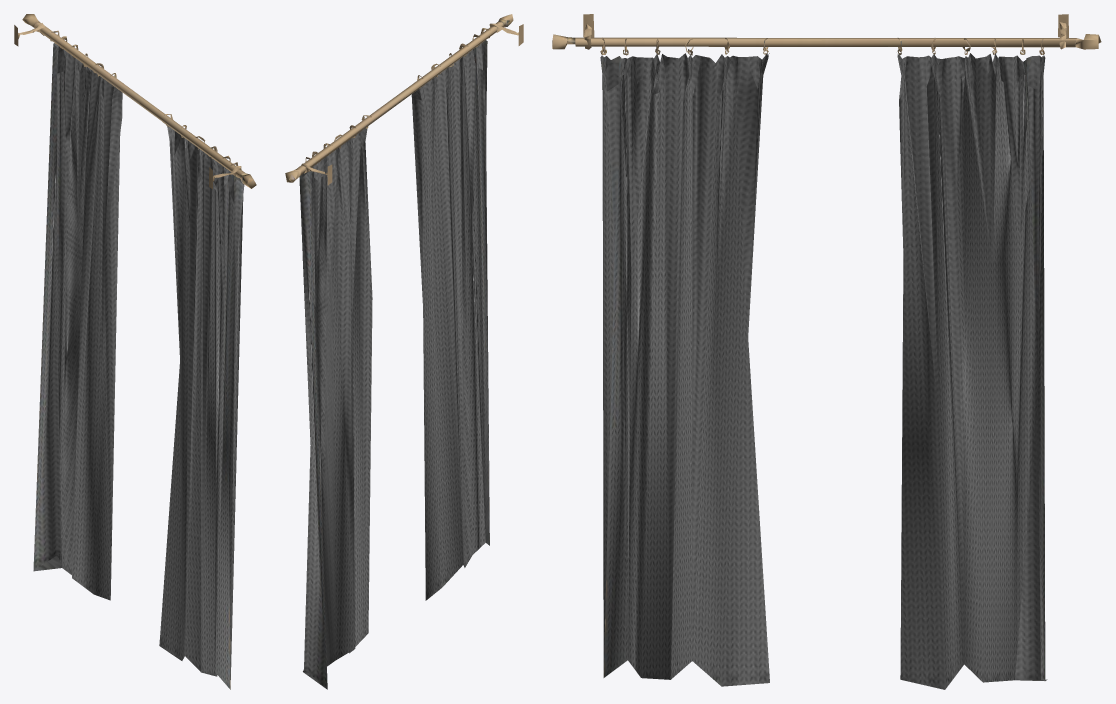
The model's file is Curtains0012.obj.
The picture shows the model from 3 angles, left to right: view 1: azimuth 30°, elevation 25°; view 2: azimuth 150°, elevation 25°; view 3: azimuth 270°, elevation 25°; orthographic projection. The views are drawn at different scales.
Size of the model in its own units: 0.197 by 2.47 by 1.86.
Materials: 1 (1 with a texture image).
